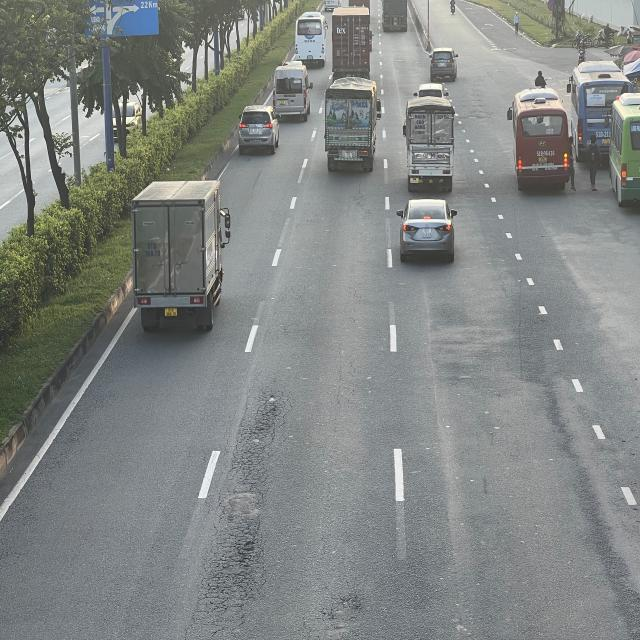car: (396, 198, 457, 262), (237, 106, 280, 154), (430, 48, 460, 80)
coach: (510, 88, 574, 188), (569, 61, 629, 159), (609, 90, 640, 208), (295, 12, 327, 66)
container: (331, 9, 373, 82)
truck: (135, 177, 234, 329), (325, 82, 380, 175), (403, 99, 456, 190), (382, 0, 410, 32)
van: (272, 60, 312, 120)
